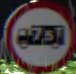Heavy Vehicles: (3, 1, 75, 73)
